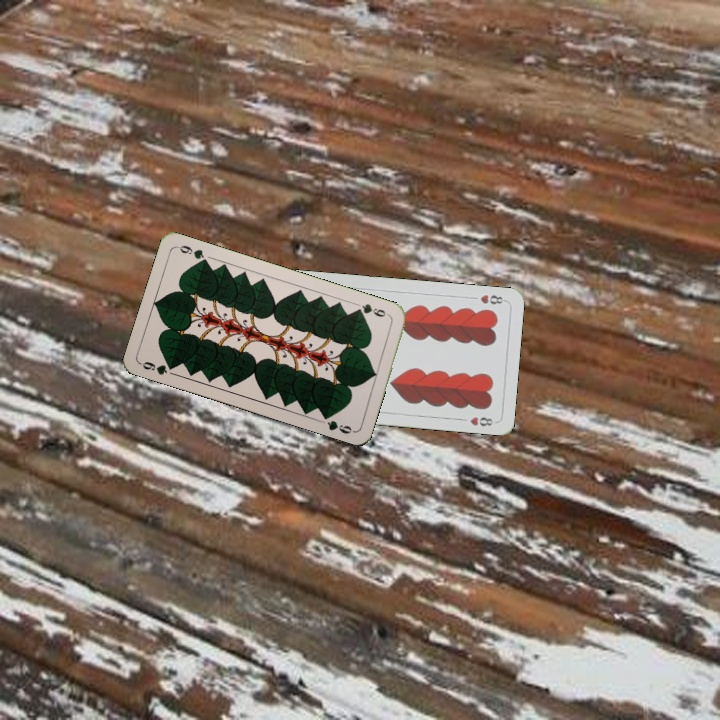G9: (352, 300, 393, 320), (137, 357, 178, 377)
H8: (476, 290, 508, 307)
